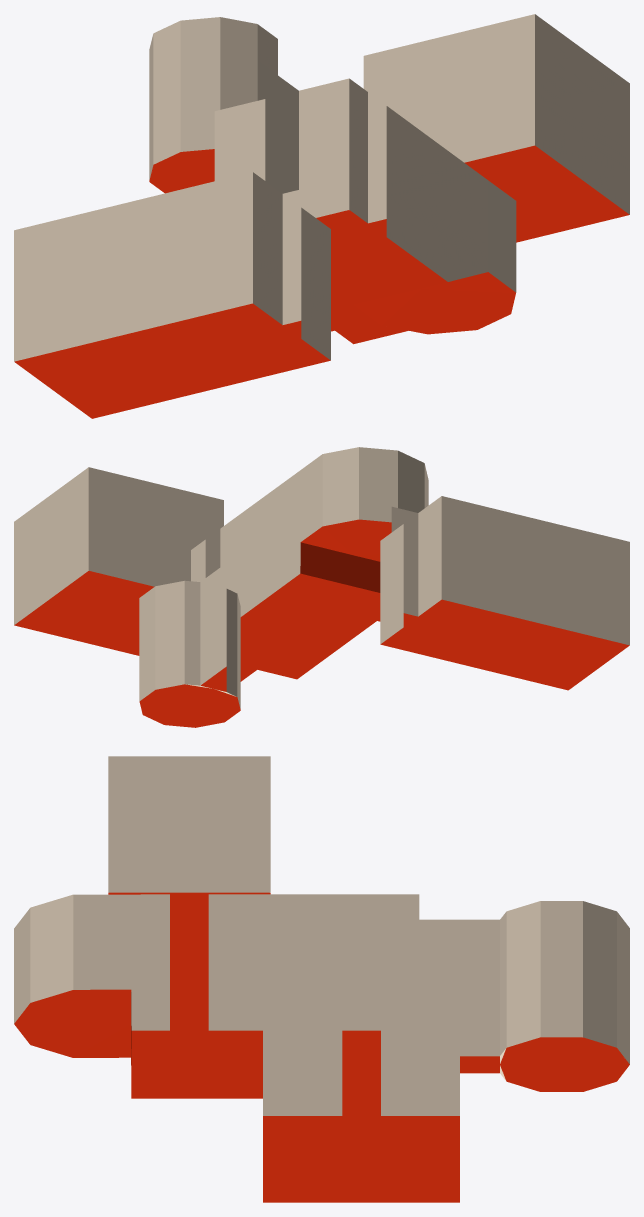
File: museumtest2.glb
3 renders of one model, top to bottom at view 1: azimuth 30°, elevation 25°; view 2: azimuth 150°, elevation 25°; view 3: azimuth 270°, elevation 25°, orthographic. The views are drawn at different scales.
Parts seen in each view (by area): view 1: MuseumMockup; view 2: MuseumMockup; view 3: MuseumMockup.
Boxes of the visible parts, bbox=[...] form: MuseumMockup: bbox=[14, 14, 629, 418]; MuseumMockup: bbox=[14, 447, 629, 727]; MuseumMockup: bbox=[14, 756, 629, 1202].
Size of the model in its own units: 48.65 by 9.98 by 40.84.
1 material, 1 textured.
